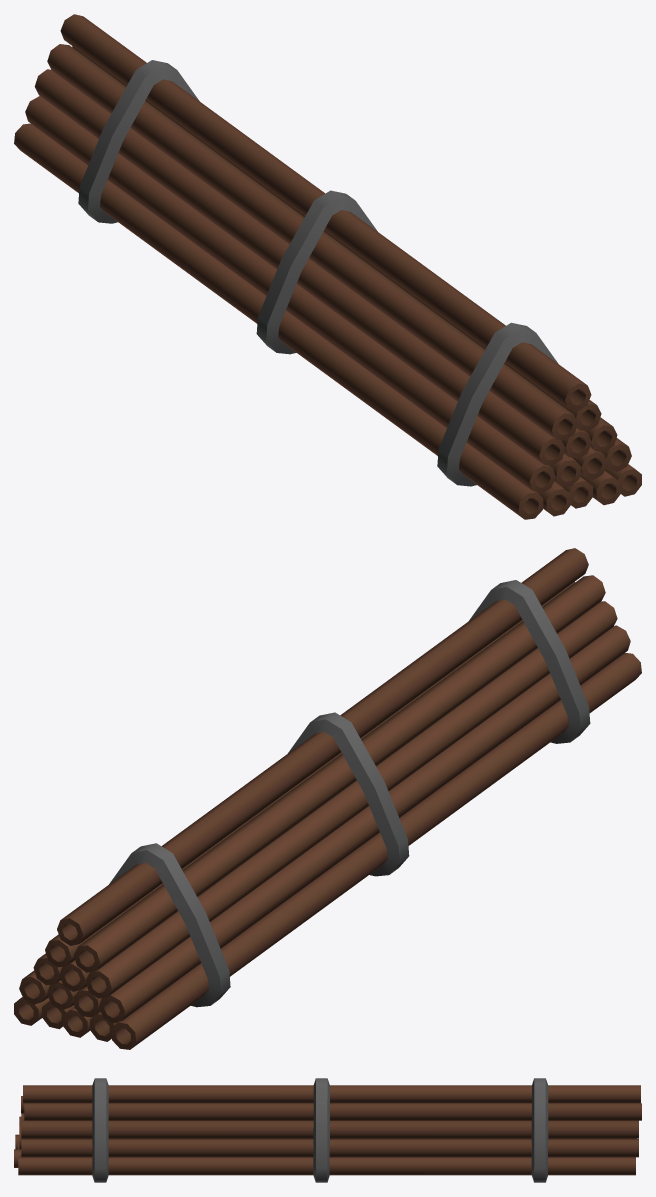
File: Pipes_C_3_1.fbx
3 views of the same model, one above another, from view 1: azimuth 30°, elevation 25°; view 2: azimuth 150°, elevation 25°; view 3: azimuth 270°, elevation 25° (orthographic). The views are drawn at different scales.
Parts seen in each view (by area): view 1: Pipes_C_3_1; view 2: Pipes_C_3_1; view 3: Pipes_C_3_1.
Boxes of the visible parts, box(x1,y1,x2,y2) form: Pipes_C_3_1: box(14, 14, 641, 519); Pipes_C_3_1: box(14, 548, 641, 1049); Pipes_C_3_1: box(14, 1078, 641, 1182).
Size of the model in its own units: 90.26 by 87.4 by 560.
